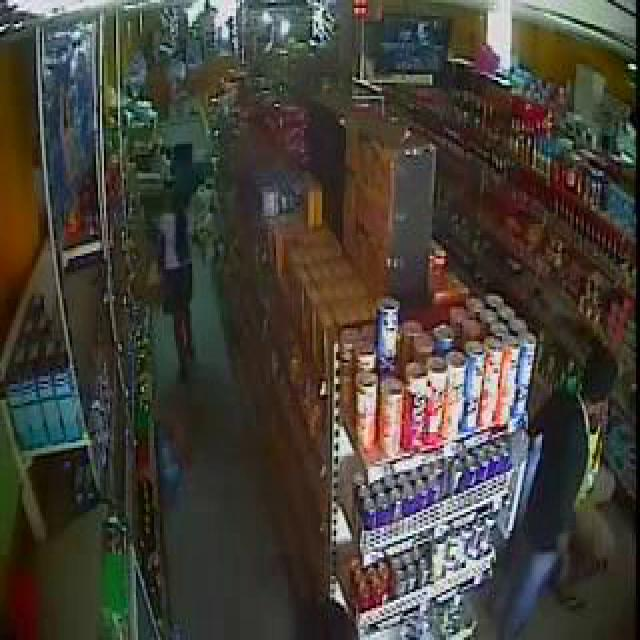shoplifting: (102, 46, 259, 415)
